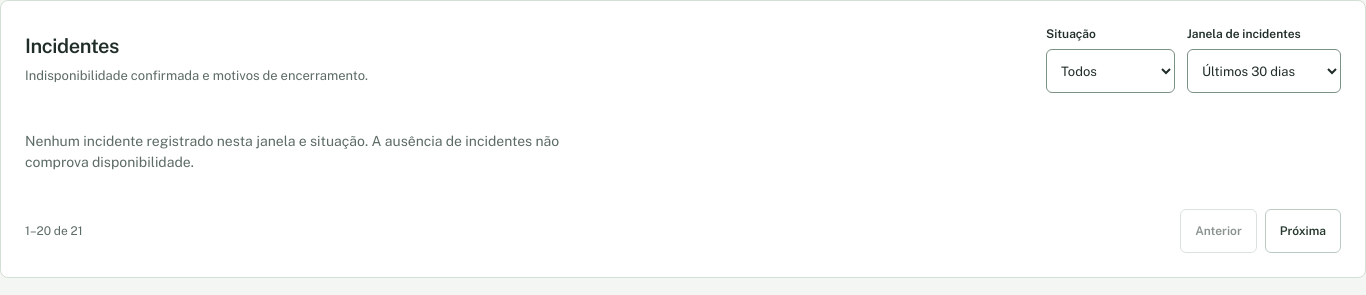
Scenario: métricas e observações › retorna à última página válida quando retenção reduz o total de incidentes
Click the button "Próxima": (1303, 231) [1265, 209, 1341, 253]
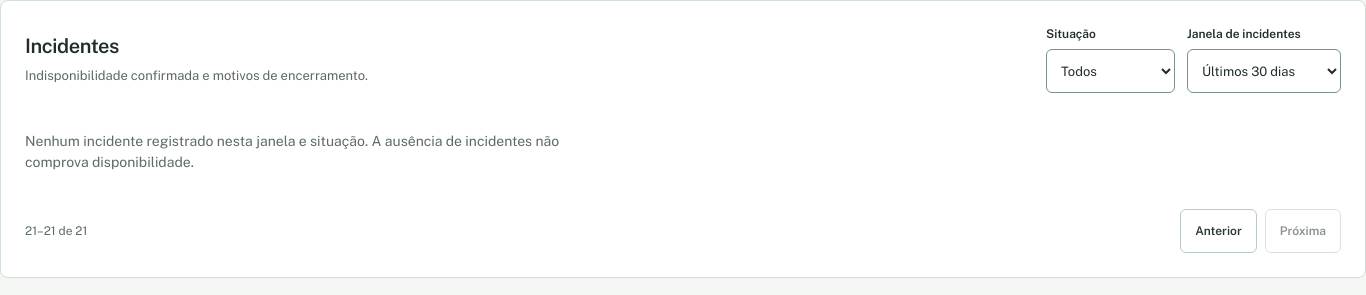
Expected: the text "21–21 de 21" is shown, [25, 222, 87, 240]
